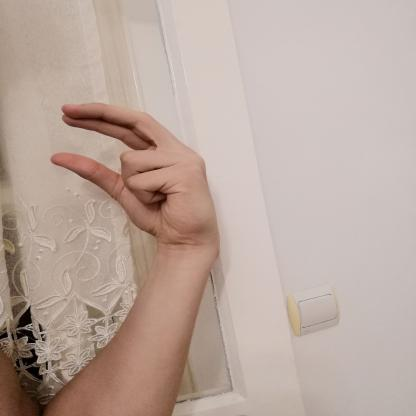DHELL: (38, 90, 226, 248)
